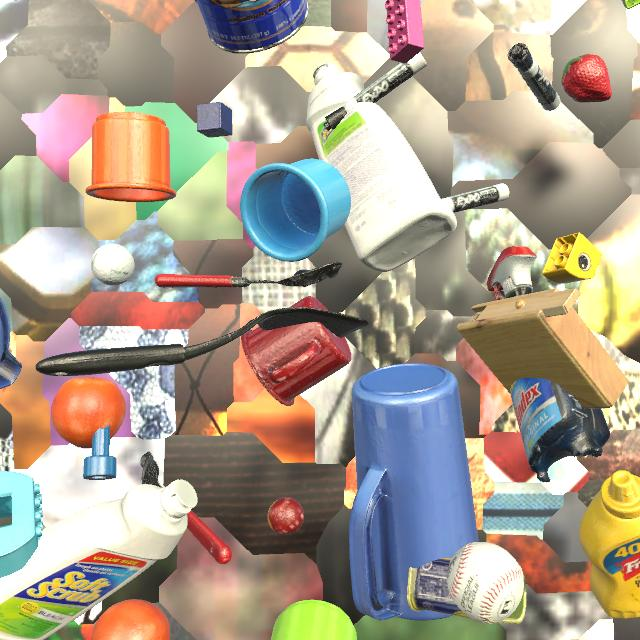ycb_002_master_chef_can: (196, 0, 309, 54)
ycb_006_mustard_bottle: (579, 470, 640, 619)
ycb_010_potted_meat_can: (407, 558, 527, 624)
ycb_011_banana: (15, 0, 16, 1)
ycb_012_strawberry: (561, 54, 612, 103)
ycb_017_orange: (51, 377, 126, 448), (91, 599, 170, 640)
